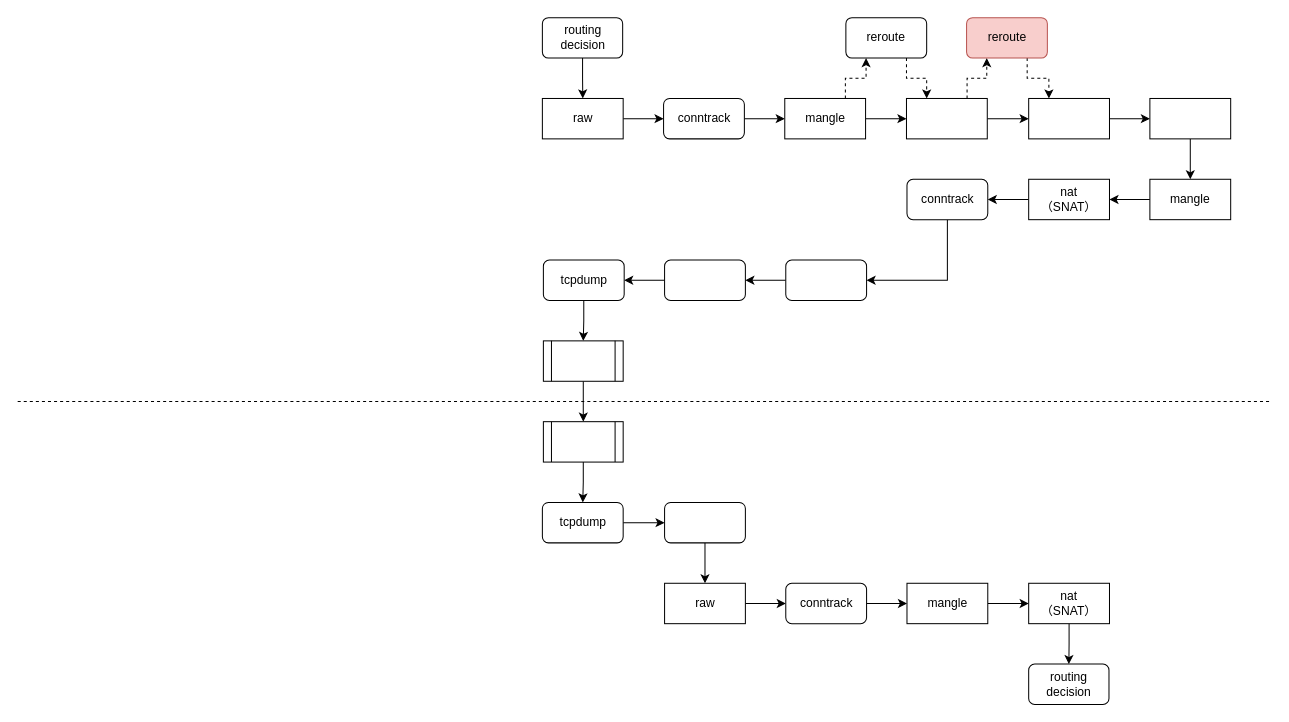
Image size: 1289x722. Some labels were removed from this diagram. Here are the shapes that lost their labels. From the top down, the centre of each, then its label:
At pixel 946 118: "nat （DNAT）".
At pixel 1068 118: "filter".
At pixel 1190 118: "security".
At pixel 704 279: "egress".
At pixel 826 279: "gso".
At pixel 582 360: "eth0".
At pixel 582 441: "lxc".
At pixel 704 522: "ingress".
